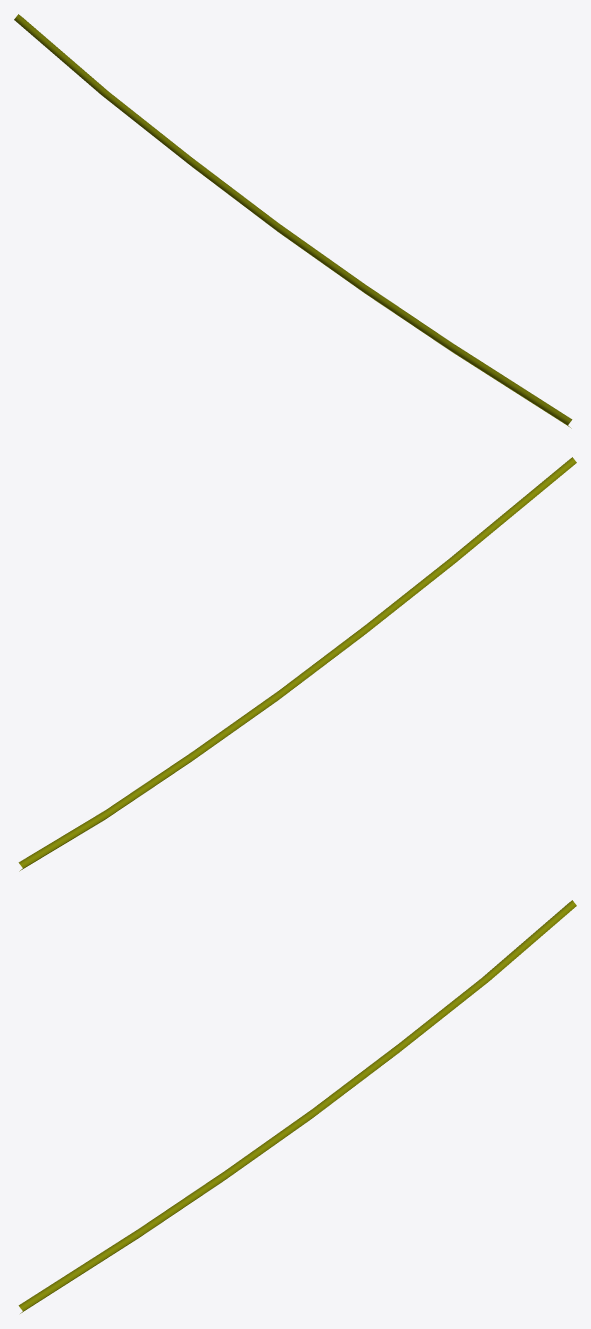
The model's file is Wire.glb.
The picture shows the model from 3 angles, top to bottom: view 1: azimuth 30°, elevation 25°; view 2: azimuth 150°, elevation 25°; view 3: azimuth 330°, elevation 25°; orthographic projection.
Parts seen in each view (by area): view 1: Wire; view 2: Wire; view 3: Wire.
Part boxes in pixels (x1,y1,x2,y2): Wire: (14, 14, 572, 428); Wire: (18, 457, 576, 871); Wire: (18, 900, 576, 1313).
Size of the model in its own units: 0.0696 by 0.2075 by 7.44.
4 materials, 4 textured.
